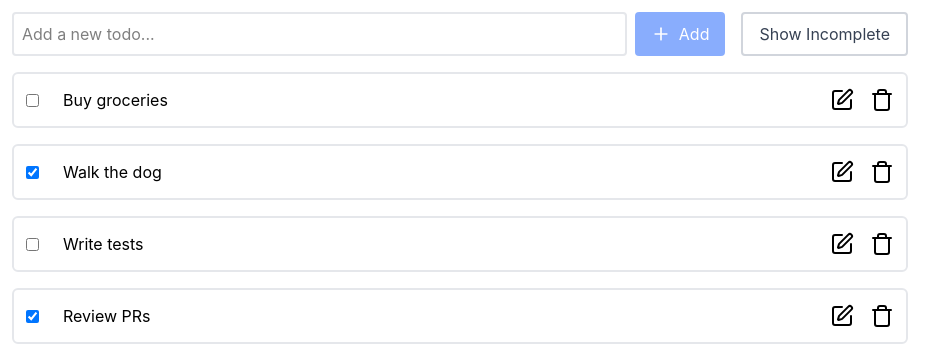
TodoList Component › Filter Functionality › updates button text when filter is toggled
The width and height of the screenshot is (925, 361).
Click the button "Show Incomplete": (825, 34) [742, 12, 908, 56]
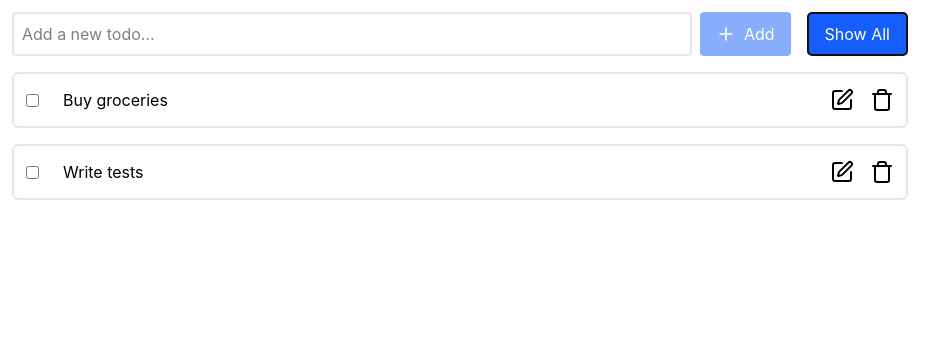
Result: the button "Show All" is shown at [807, 12, 908, 56]
Result: the button "Show Incomplete" is gone
